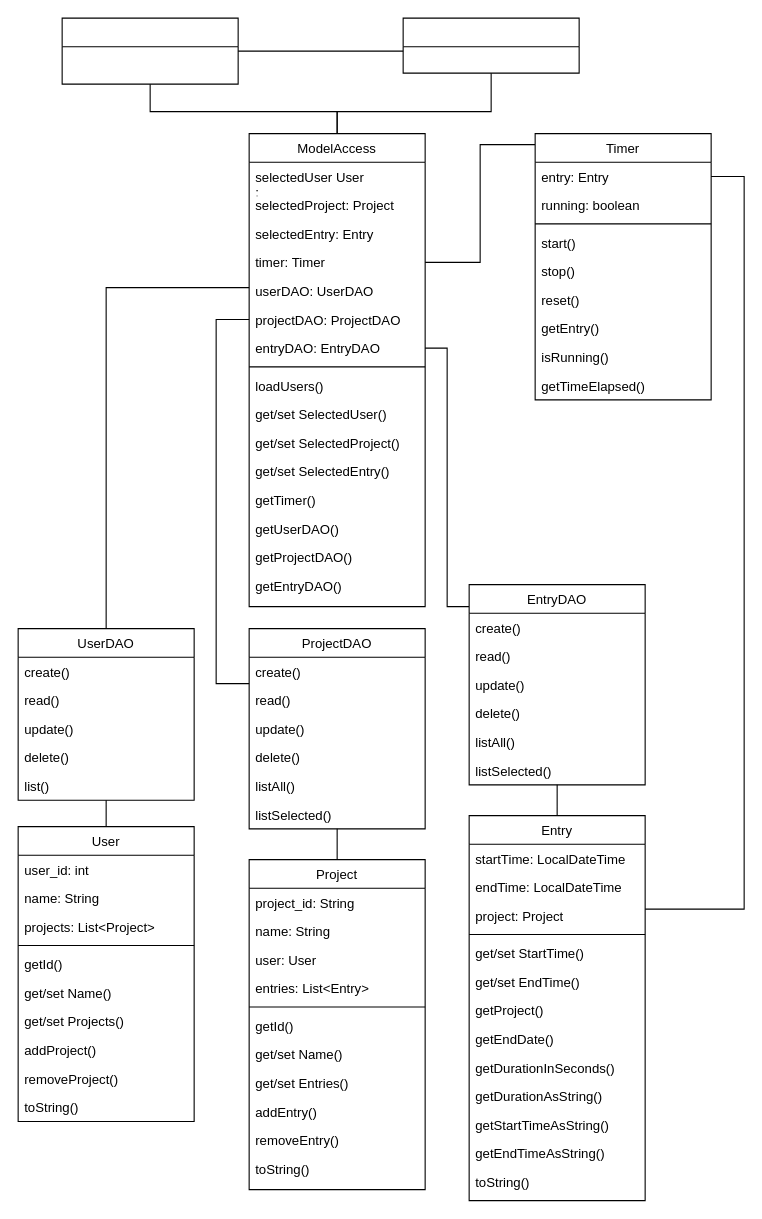
The diagram is 762 pixels wide and 1219 high, and some of its shapes have lost their labels. The shapes that lost their labels are listed below. From the top down, each one's centre as x and y in pixels, then its label:
At pixel 149 50: "Controllers".
At pixel 490 45: "UI".
